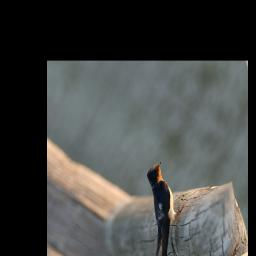Swallow: (108, 153, 205, 256)
